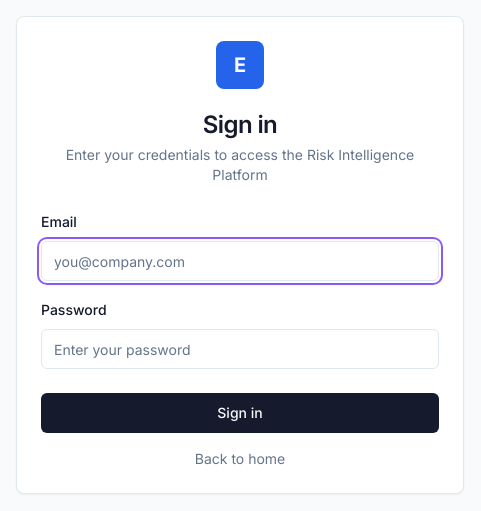
LoginPage › Loading State › should disable submit button while loading
Type "test@example.com" into the field labelled "Email" at (240, 261), box [41,241,439,281]
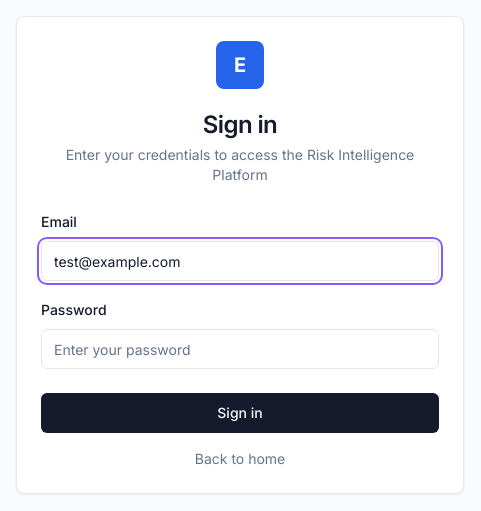
Type "password123" into the password field labelled "Password" at (240, 349), box [41,329,439,369]
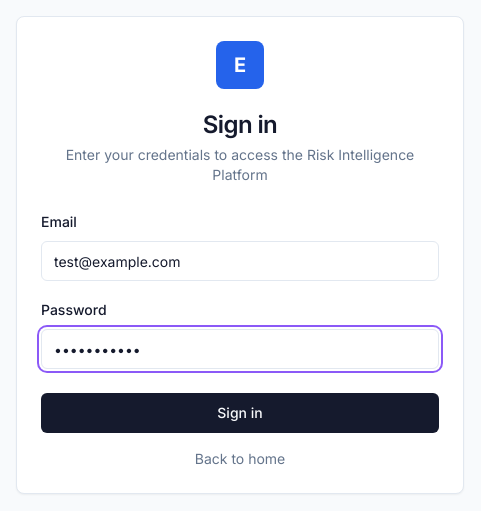
Click the button "Sign in" at (240, 413), box [41,393,439,433]
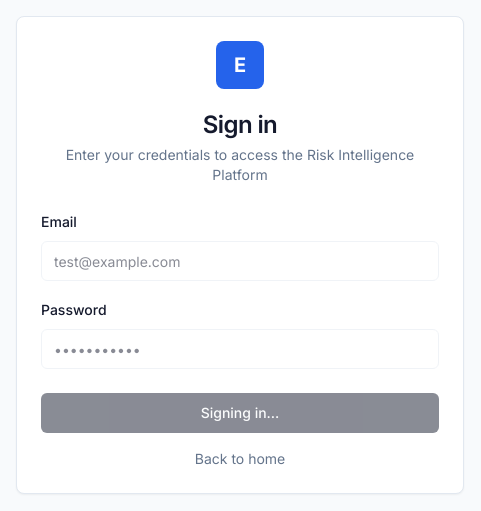
Now the button shows "Signing in", box [41,393,439,433]
